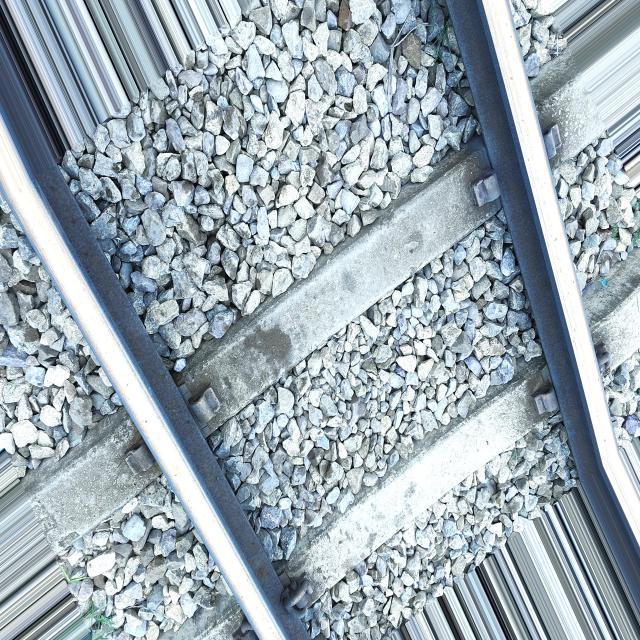Good Fasteners: (278, 571, 317, 615), (595, 343, 610, 373)
Missing Fastener: (449, 160, 523, 216), (184, 378, 229, 435), (119, 438, 171, 486), (525, 371, 562, 436), (537, 112, 572, 156)
